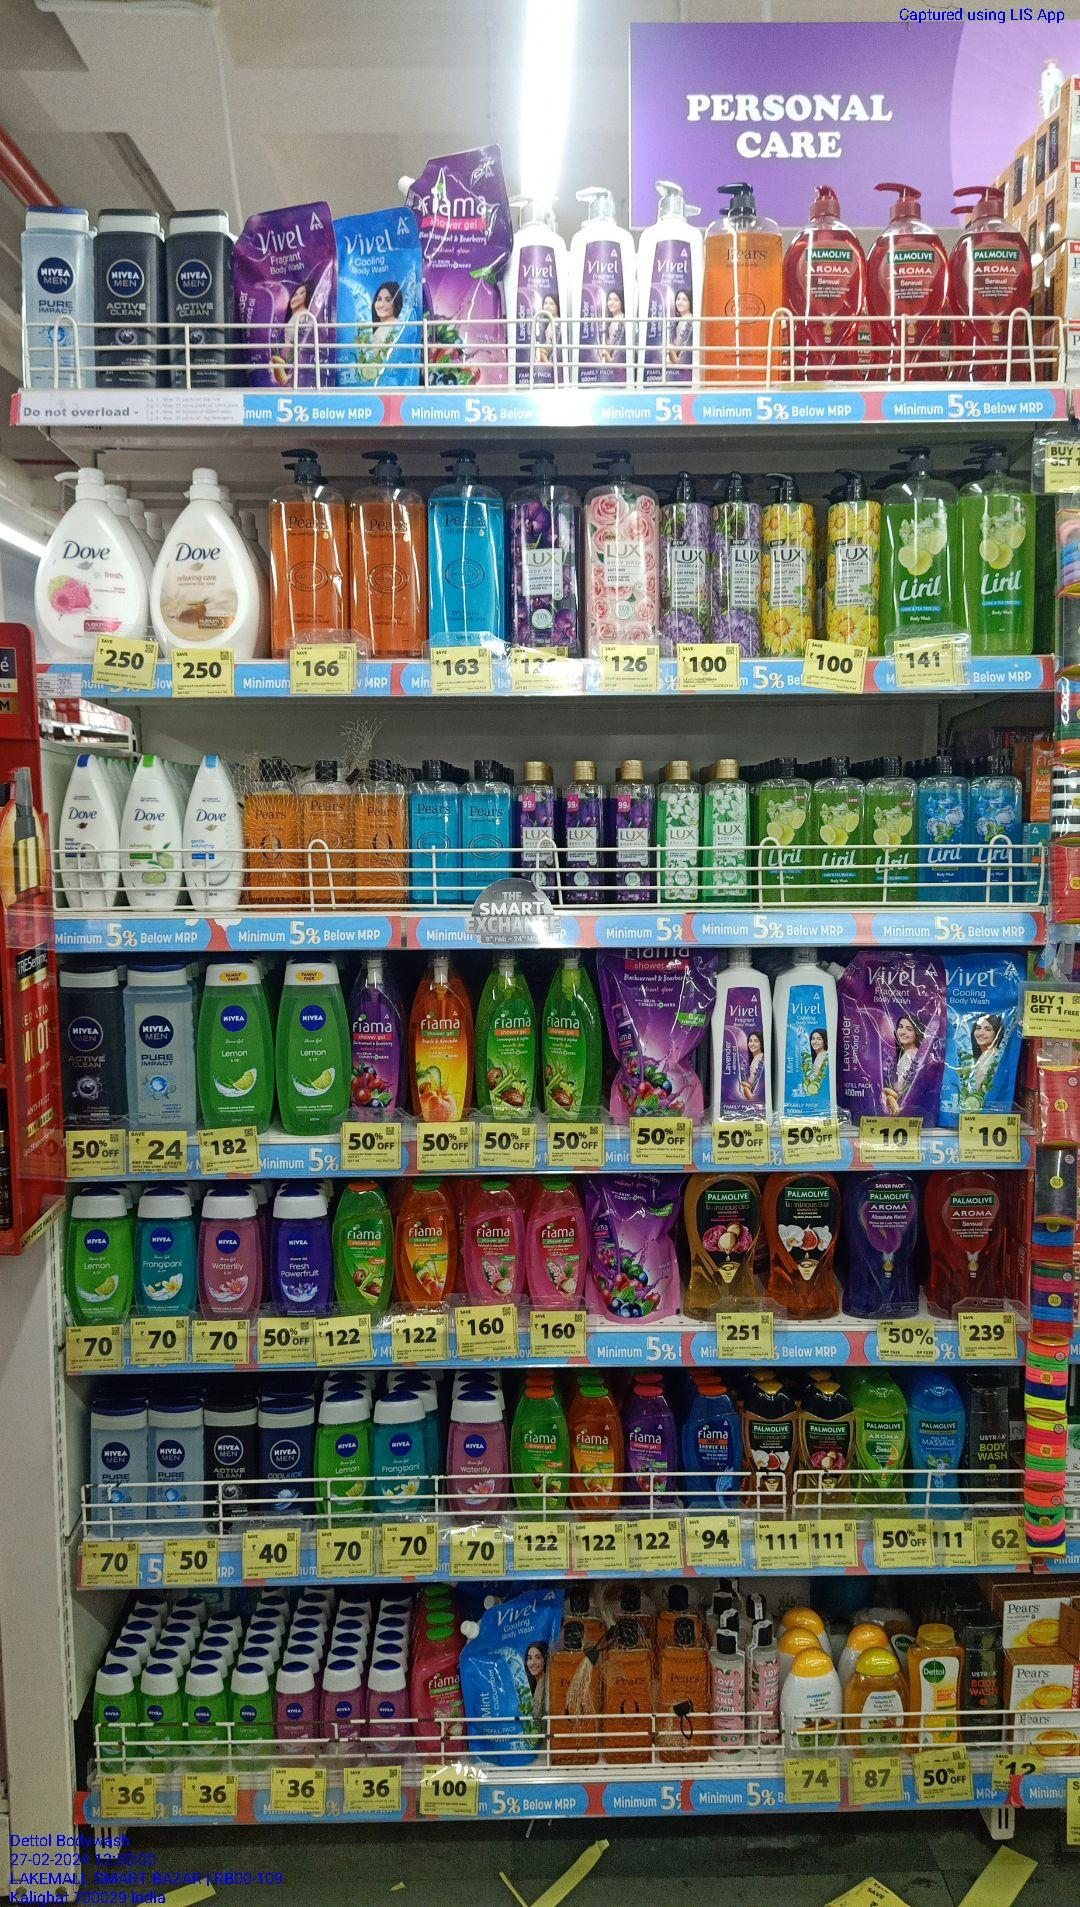Dettol_Bodywash_Refresh: (906, 1625, 965, 1754)
Dove_Deep_Moisture_Body_Wash_250ML: (60, 750, 118, 912)
Dove_Gentle_Exfoliating_Body_Wash_250ML: (186, 752, 242, 912)
Dove_Refreshing_Body_Wash_250ML: (124, 750, 182, 912)
Fiama_Shower_Gel_Lemongrass_and_Jojoba_250ML: (512, 1387, 568, 1523), (336, 1183, 393, 1316)
Fiama_Shower_Gel_Patchouli_and_Macadamia_250ML: (467, 1179, 524, 1310), (415, 1629, 467, 1768), (529, 1180, 583, 1308)
Fiama_Shower_Gel_Peach_and_Avocado_250ML: (398, 1179, 454, 1312), (571, 1388, 623, 1521)
Liril_Cooling_Mint_Body_Wash_250ML: (975, 752, 1022, 904), (923, 752, 969, 904)
Liril_Lime_and_Tea_Tree_Oil_Body_Wash_250ML: (761, 756, 813, 905), (867, 753, 916, 902), (817, 756, 865, 902)
Lux_Black_Orchid_Scent_and_Juniper_Oil_Body_Wash_245ML: (609, 754, 655, 906), (562, 760, 607, 905), (516, 756, 559, 908)
Lux_Body_Wash_Skin_Detox_Freesia_Scent_and_Alove_Vera_245ML: (706, 757, 755, 906), (658, 758, 702, 905)
Nivea_Shower_Gel_Frangipani_and_Oil_250ML: (134, 1187, 194, 1318), (376, 1396, 429, 1518)
Nivea_Shower_Gel_Fresh_Powerfruit_250ML: (271, 1188, 331, 1318)
Nivea_Shower_Gel_Lemon_and_Oil_250ML: (196, 957, 271, 1134), (280, 959, 351, 1136), (68, 1193, 131, 1327), (317, 1394, 370, 1527), (228, 1665, 272, 1775), (93, 1665, 135, 1776), (137, 1671, 182, 1772), (185, 1666, 224, 1773)
Nivea_Shower_Gel_Waterlily_and_Oil_250ML: (199, 1187, 259, 1318), (446, 1395, 505, 1528), (274, 1667, 318, 1764), (365, 1666, 406, 1771), (321, 1662, 361, 1767)
Palmolive_Aroma_Moments_Feel_The_Massage_Shower_Gel_250ML: (909, 1374, 967, 1521)
Palmolive_Aroma_Morning_Tonic_Shower_Gel_250ML: (855, 1377, 907, 1517)
Palmolive_Luminous_Oils_Invigorating_Macadamia_Oil_With_Peony_250ML: (799, 1383, 854, 1518)
Palmolive_Luminous_Oils_With_White_Orchid_Shower_Gel_250ML: (744, 1382, 795, 1518)
Pears_Pure_Glycerin_and_Mint_Extracts_Body_Wash_250ML: (411, 758, 462, 913), (462, 756, 512, 902)
